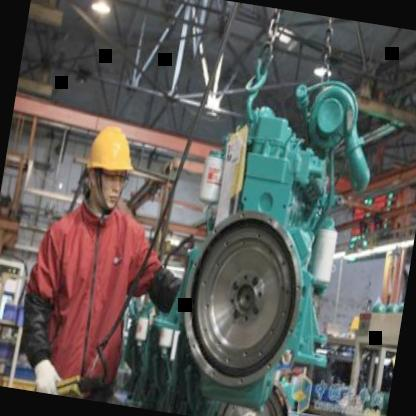helmet: (72, 112, 144, 224)
